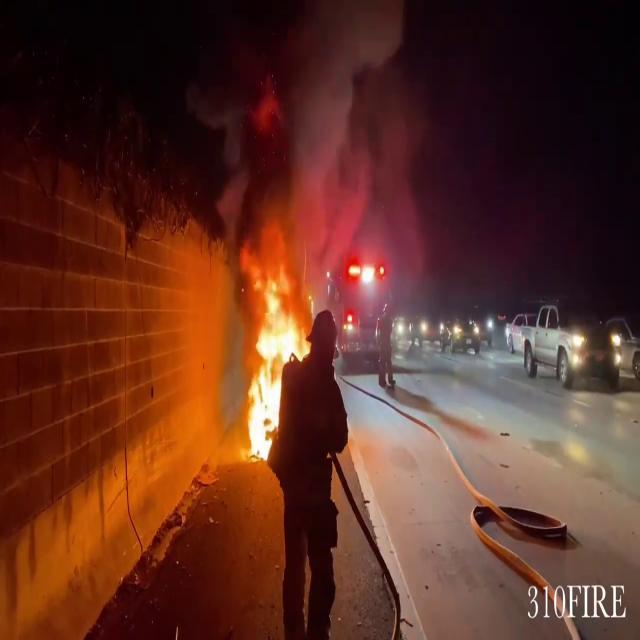Fire: (226, 266, 306, 462)
Smoke: (202, 0, 388, 291)
